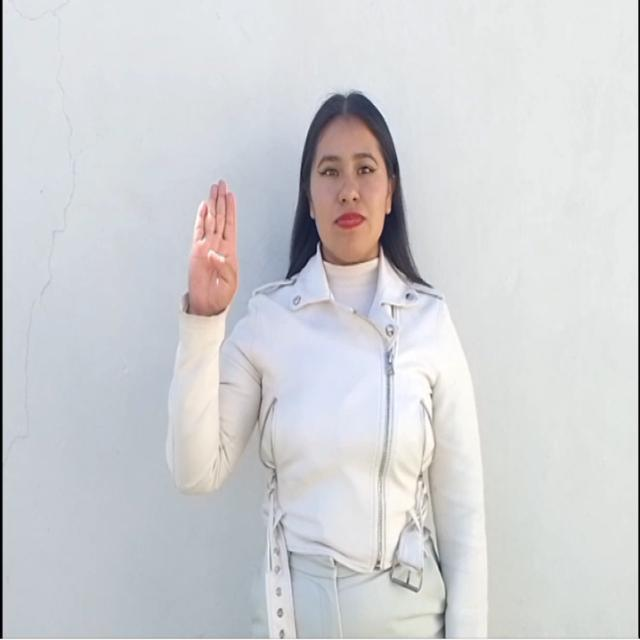B: (184, 180, 257, 327)
